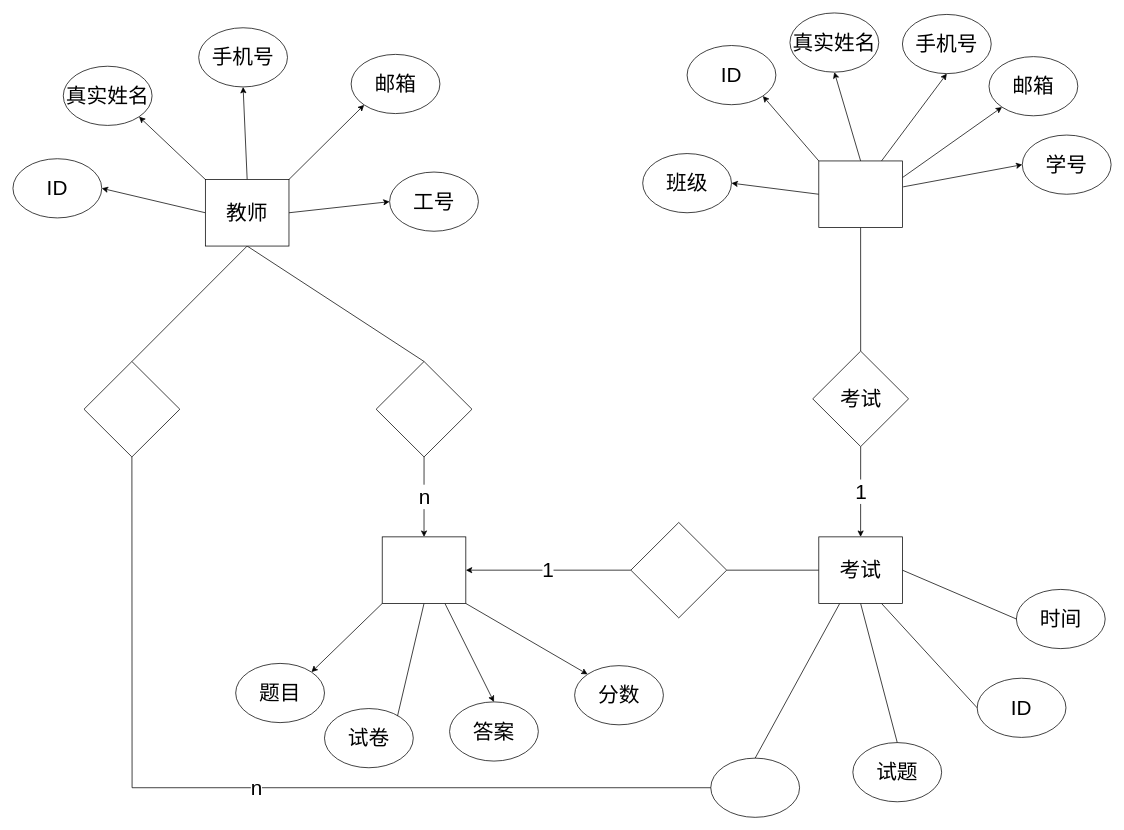
The diagram is 1124 pixels wide and 830 high, and some of its shapes have lost their labels. The shapes that lost their labels are listed below. From the top down, each one's centre as x and y in pixels, then its label:
At pixel 860 194: "学生".
At pixel 131 409: "设置".
At pixel 423 409: "创建".
At pixel 423 569: "题库".
At pixel 678 570: "获取".
At pixel 755 787: "考生".
